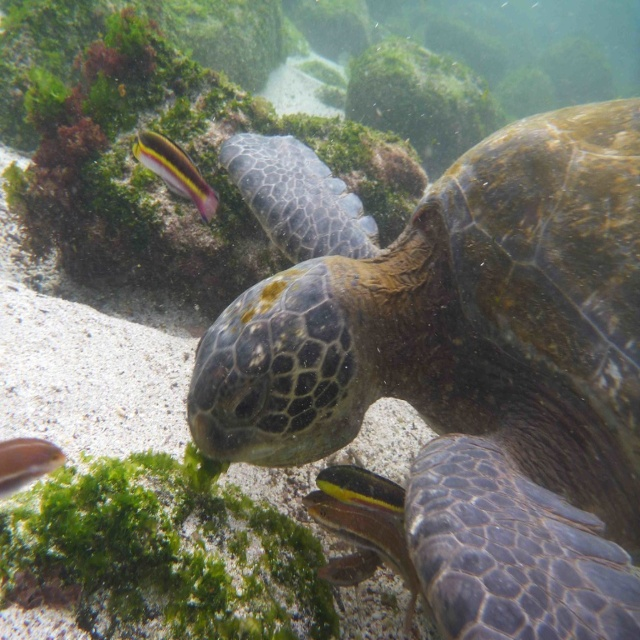Sea turtle: (185, 93, 640, 639)
